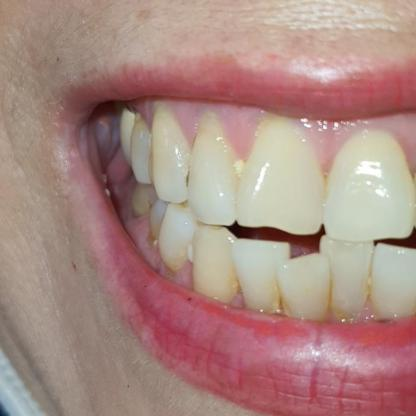Crowding: (233, 236, 330, 316)
